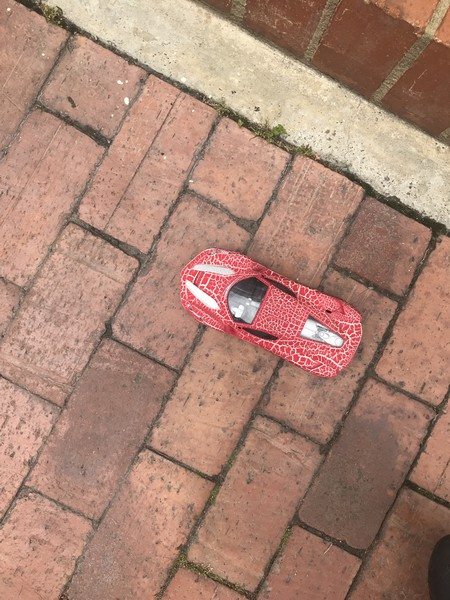RC: (176, 246, 365, 379)
